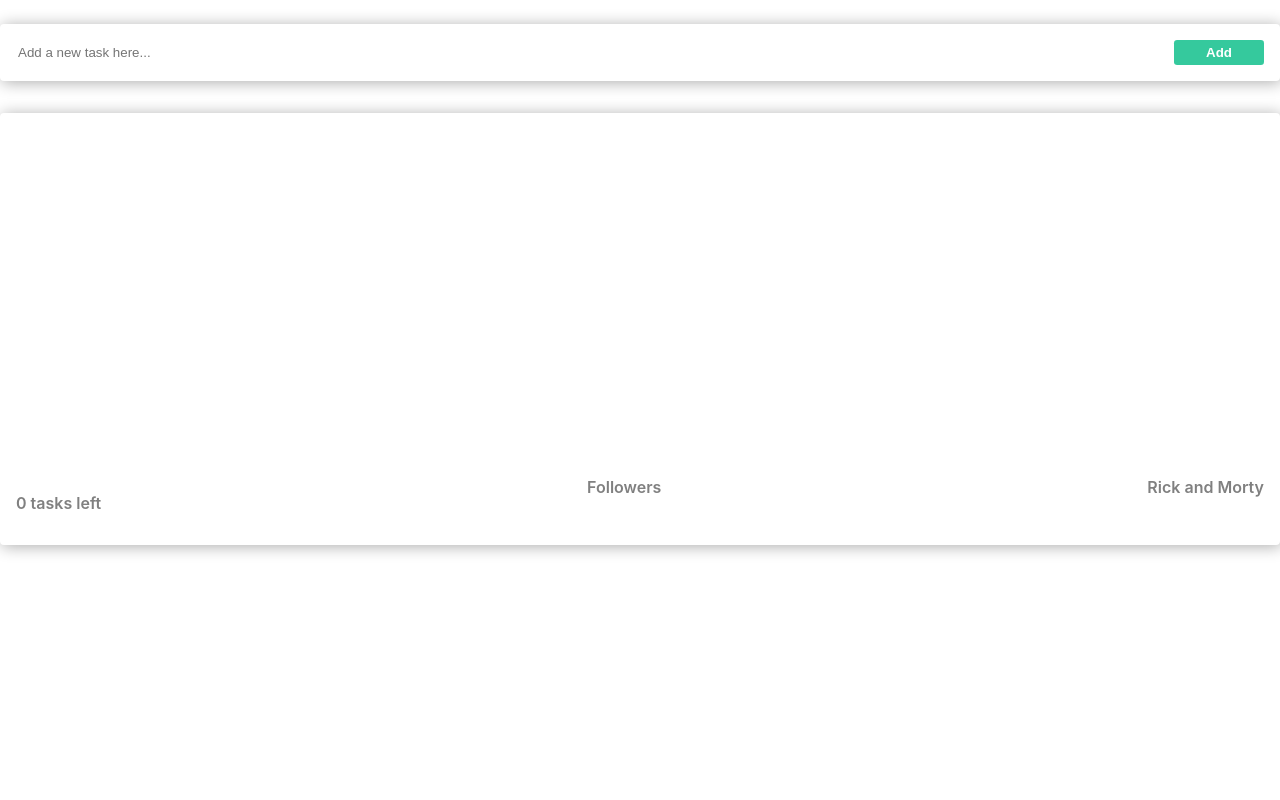
Test: should render multiple items
Step 1. Type "Go Grocery Shopping" into the field with placeholder "Add a new task here..." → coordinates (580, 52), box [16,40,1143,65]
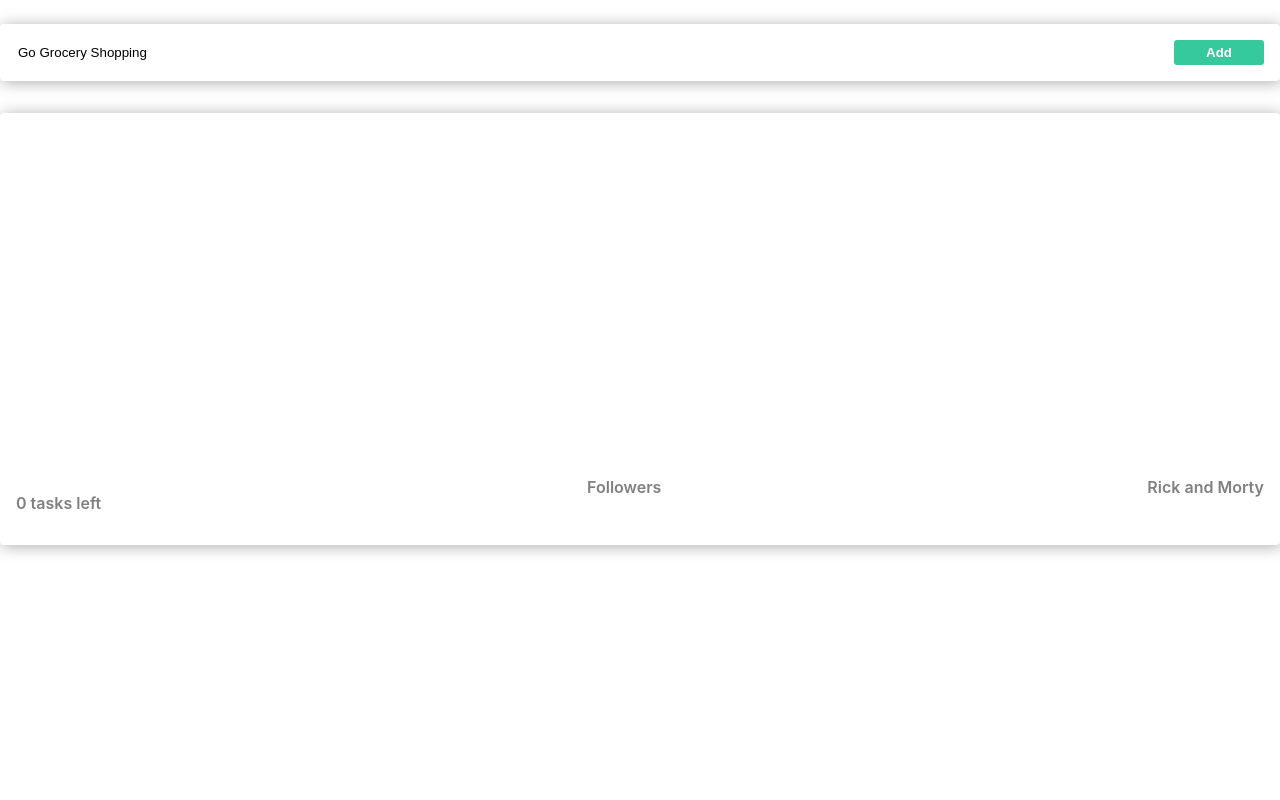
Step 2. Click the button "Add" → coordinates (1219, 52), box [1174,40,1264,65]
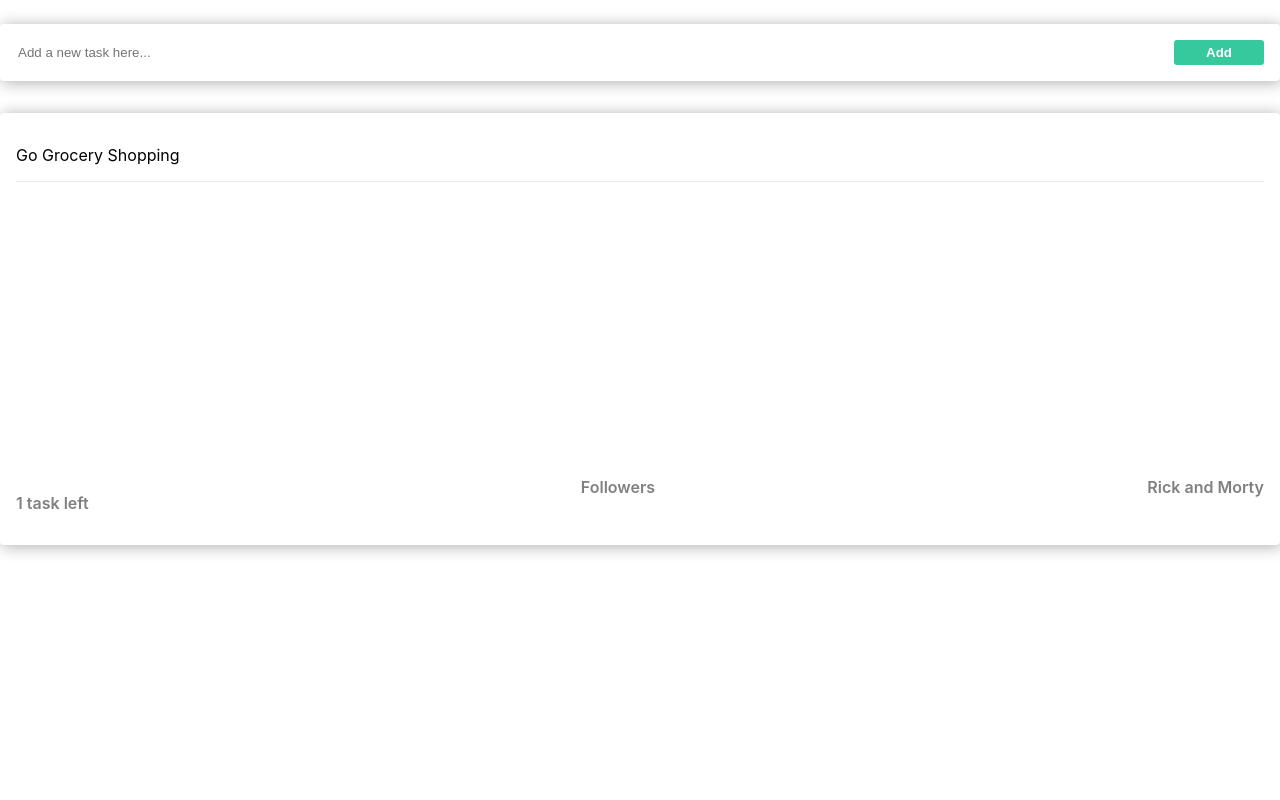
Step 3. Type "Go Grocery Shopping" into the field with placeholder "Add a new task here..." → coordinates (580, 52), box [16,40,1143,65]
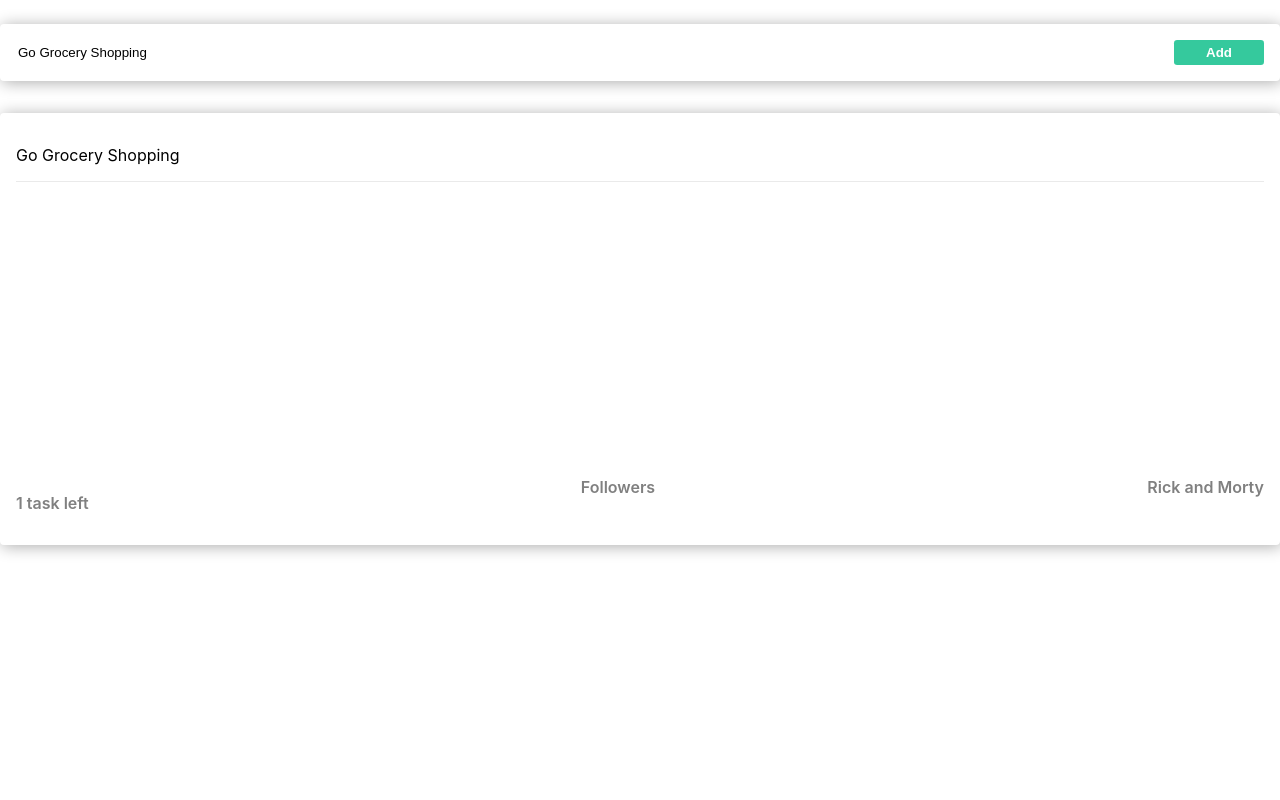
Step 4. Click the button "Add" → coordinates (1219, 52), box [1174,40,1264,65]
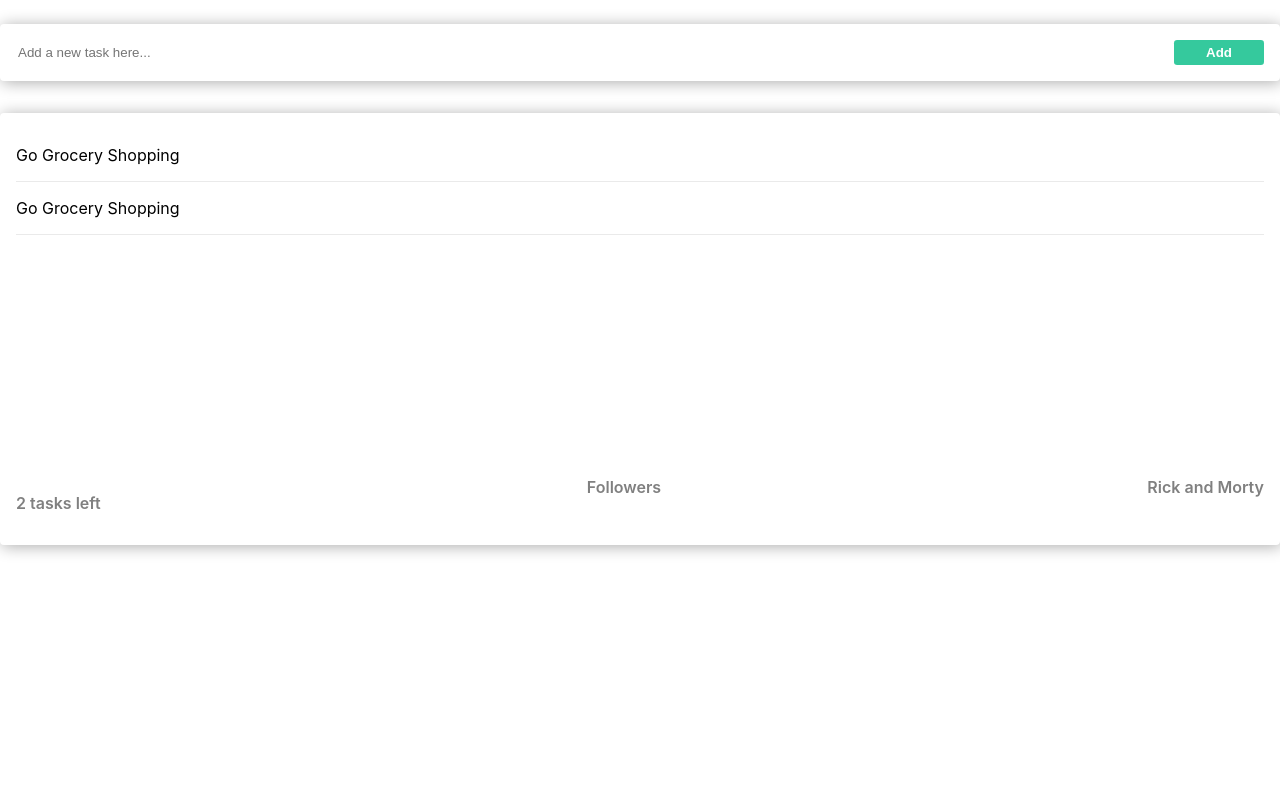
Step 5. Type "Go Grocery Shopping" into the field with placeholder "Add a new task here..." → coordinates (580, 52), box [16,40,1143,65]
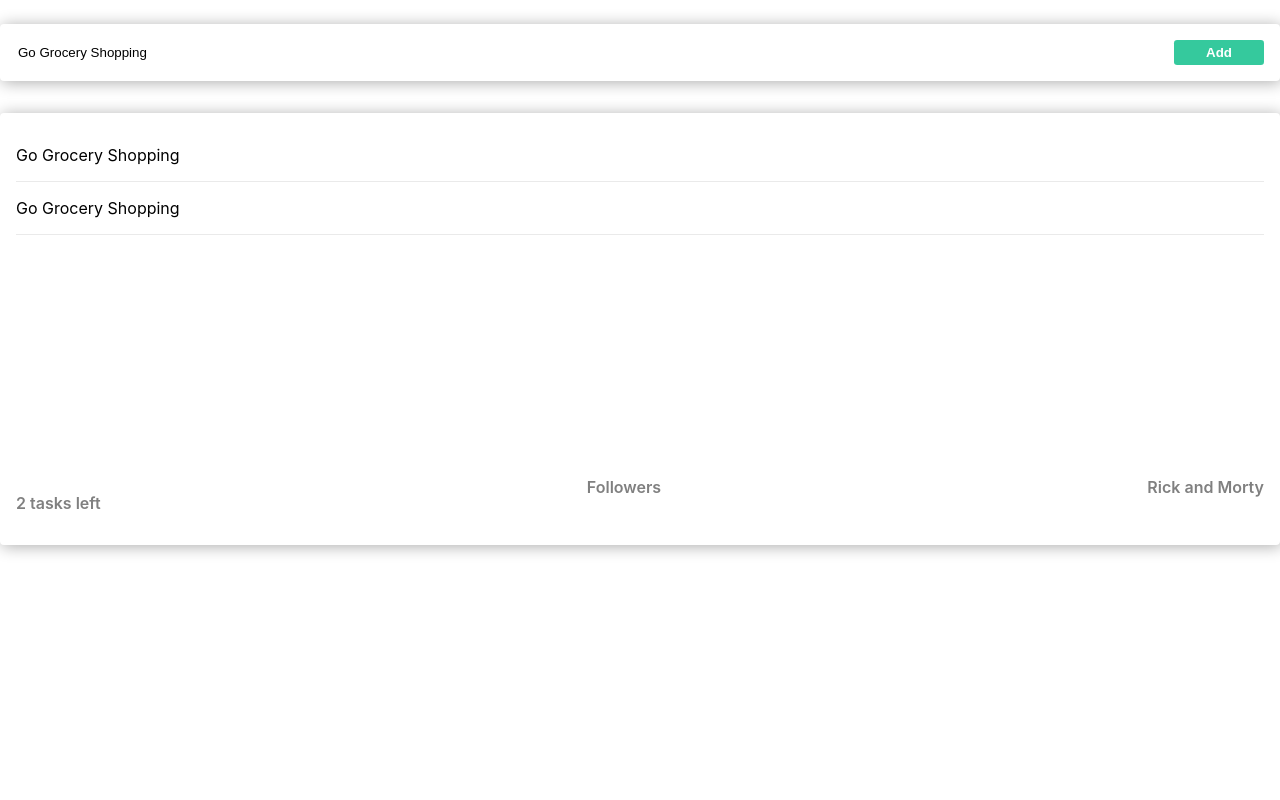
Step 6. Click the button "Add" → coordinates (1219, 52), box [1174,40,1264,65]
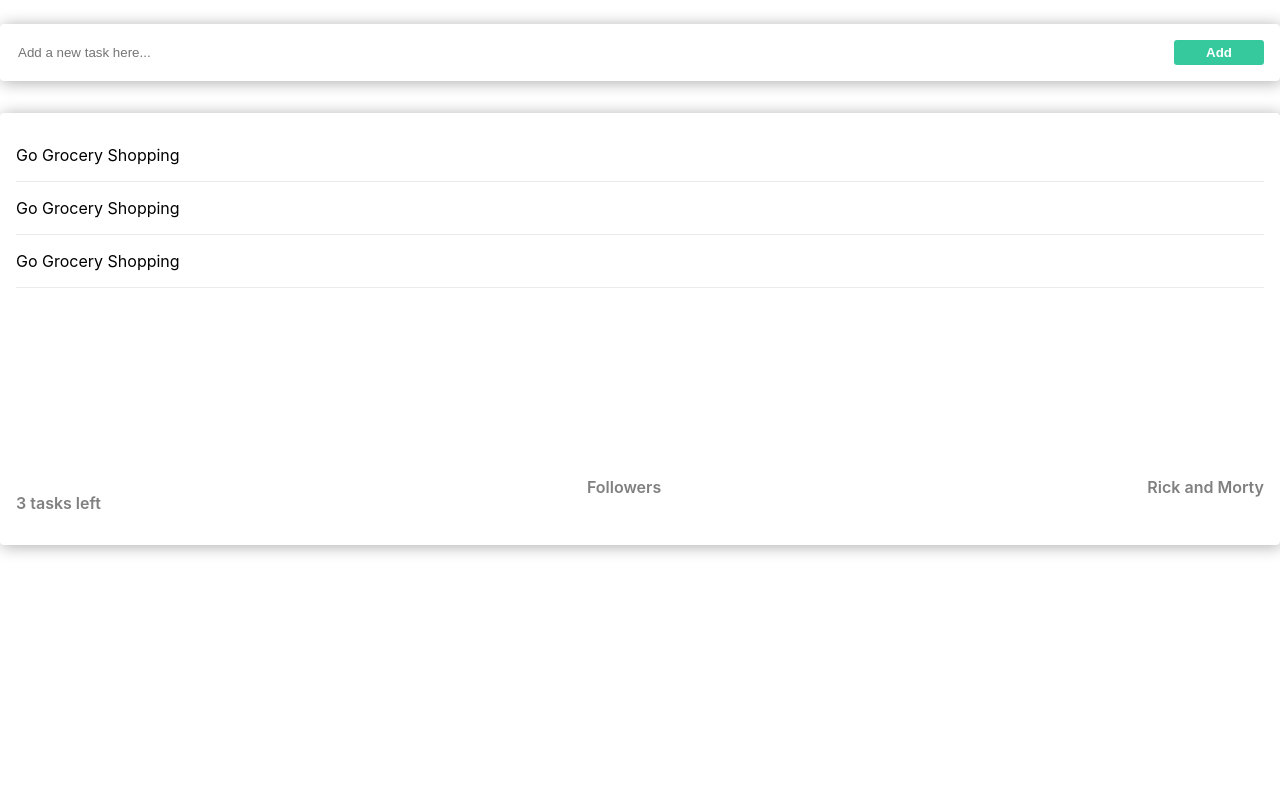
Check: the text "Go Grocery Shopping" is shown 3 times, box [16,129,1264,182]; [16,182,1264,235]; [16,235,1264,288]
